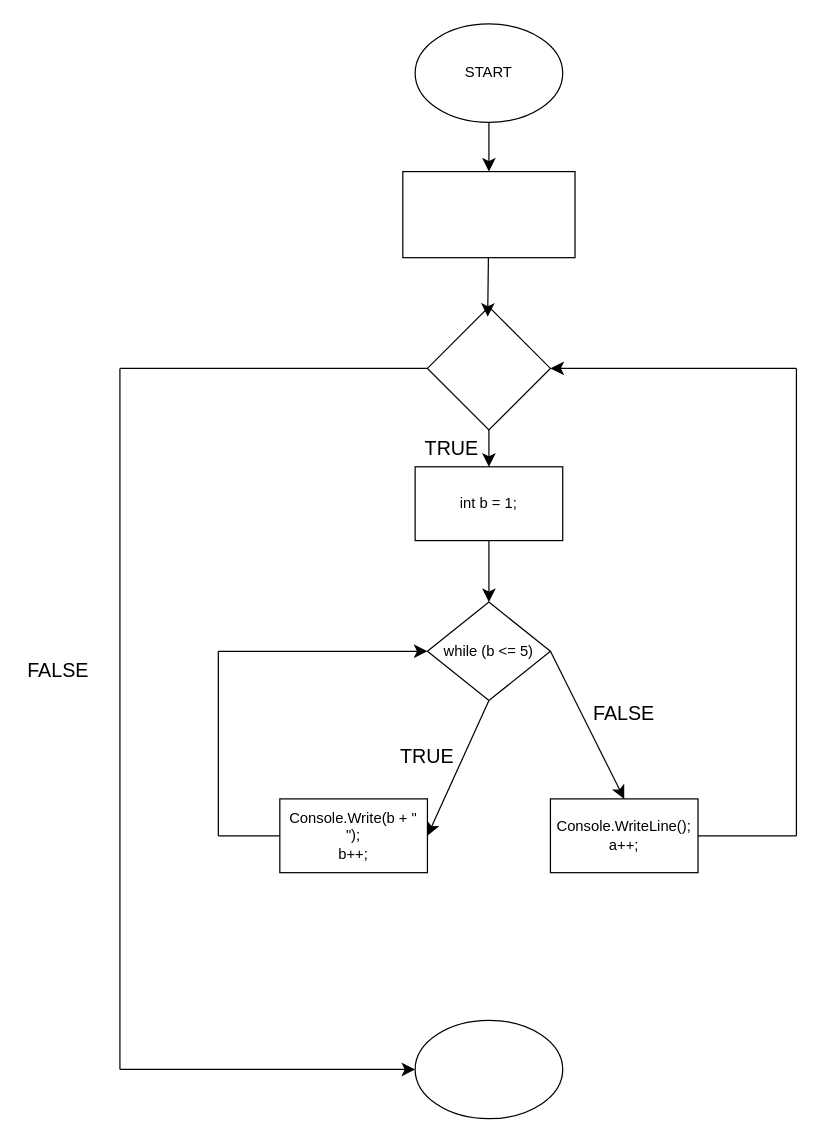
Image size: 819x1140. Some labels were removed from this diagram. Here are the shapes that lost their labels. From the top down, the centre of each, then its label:
[488,214]: int a = 1;
[488,368]: while (a <= 5)
[488,1069]: END
